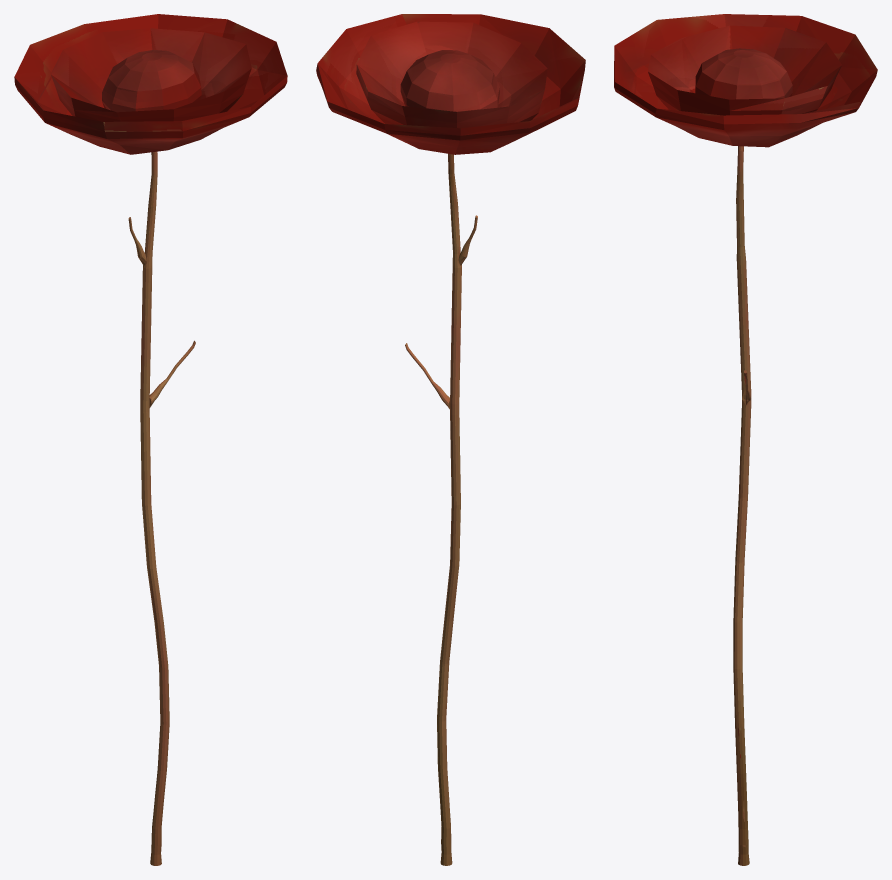
The model's file is Rose.dae.
3 views of the same model, side by side, from view 1: azimuth 30°, elevation 25°; view 2: azimuth 150°, elevation 25°; view 3: azimuth 270°, elevation 25° (orthographic).
Parts seen in each view (by area): view 1: Rose; view 2: Rose; view 3: Rose.
Part boxes in pixels (box(x1,y1,x2,y2)): Rose: box(14, 14, 287, 865); Rose: box(316, 14, 585, 865); Rose: box(614, 14, 877, 865).
Bounding box in the file's own units: 1.4 × 1.36 × 4.6.
1 material, 1 textured.
